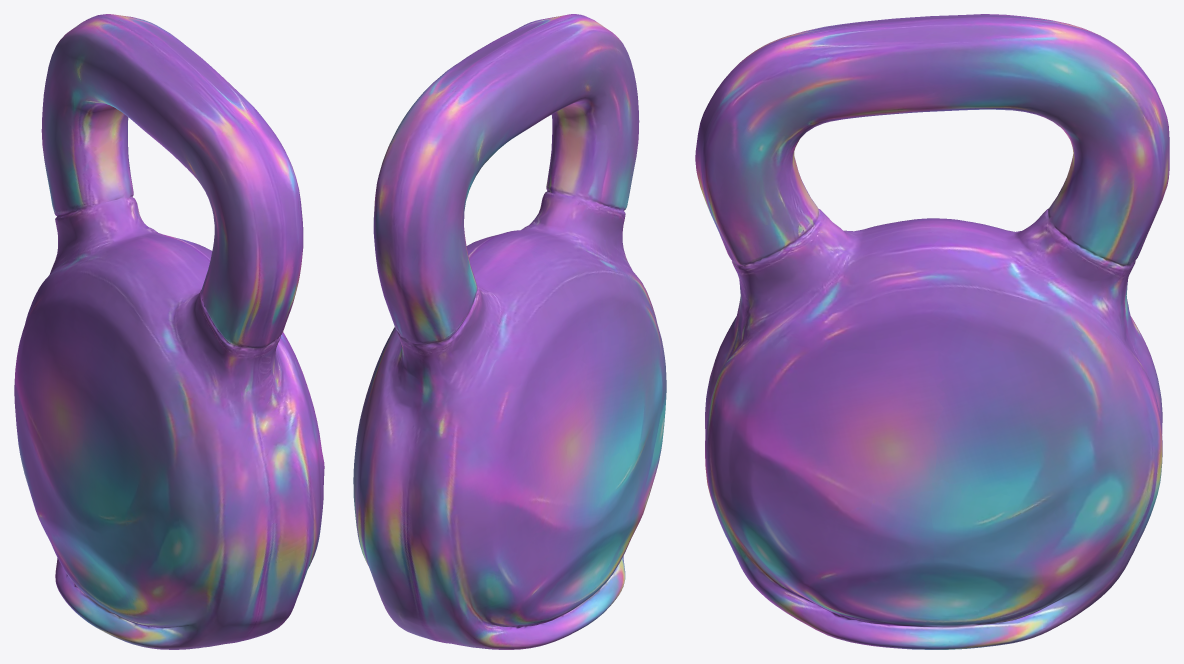
File: kettlebell.glb
3 renders of one model, left to right at view 1: azimuth 30°, elevation 25°; view 2: azimuth 150°, elevation 25°; view 3: azimuth 270°, elevation 25°, orthographic. The views are drawn at different scales.
Visible parts, largest first — view 1: tripo_node_e34aae61-e537-44a1-b88f-362a81462062; view 2: tripo_node_e34aae61-e537-44a1-b88f-362a81462062; view 3: tripo_node_e34aae61-e537-44a1-b88f-362a81462062.
Part boxes in pixels (<box>): tripo_node_e34aae61-e537-44a1-b88f-362a81462062: <box>14,14,324,649</box>; tripo_node_e34aae61-e537-44a1-b88f-362a81462062: <box>353,14,666,649</box>; tripo_node_e34aae61-e537-44a1-b88f-362a81462062: <box>695,14,1169,649</box>.
Bounding box in the file's own units: 0.3382 × 1 × 0.7247.
Materials: 1 (1 with a texture image).
